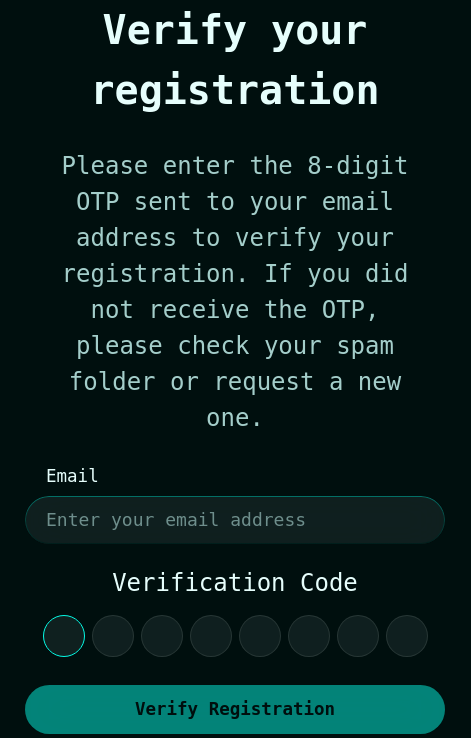
Test: VerifyRegistrationPage › displays error when entering an already verified email upon blur
The image size is (471, 738).
Type "alex@example.com" into the field with placeholder "Enter your email address" at [235, 520], box [46,506,424,533]
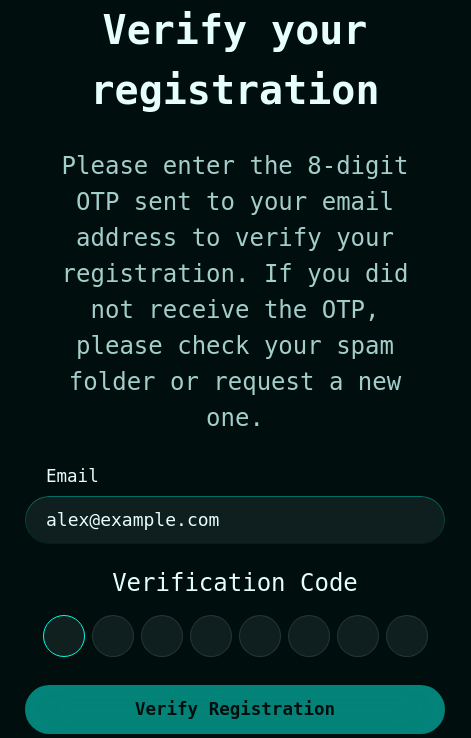
Leave the field with placeholder "Enter your email address", box [46,506,424,533]
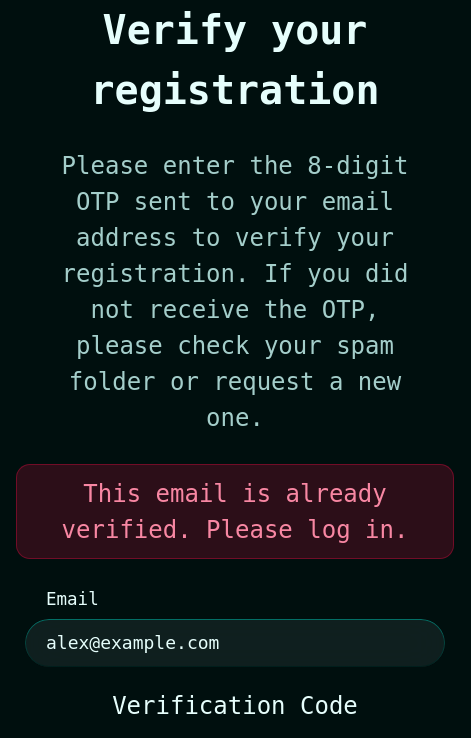
expect the message shows "This email is already verified": met, box [62,480,408,544]
